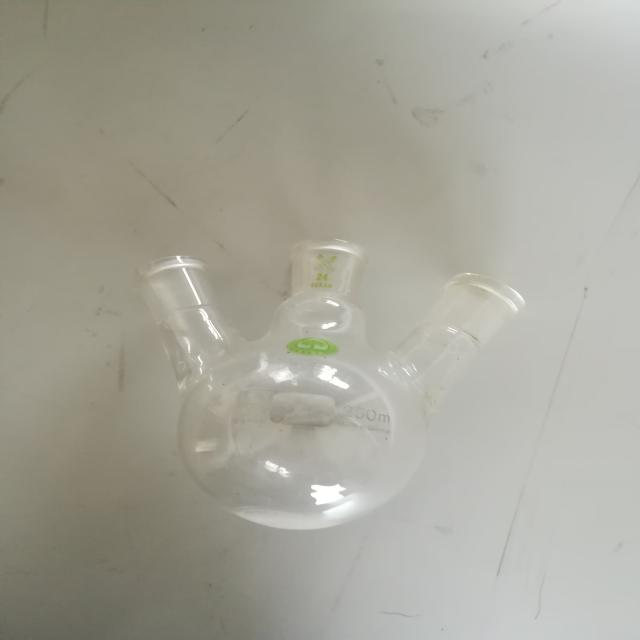Round_Bottom_Flask_Borosilicate_Glass_3_Neck: (116, 189, 547, 574)
